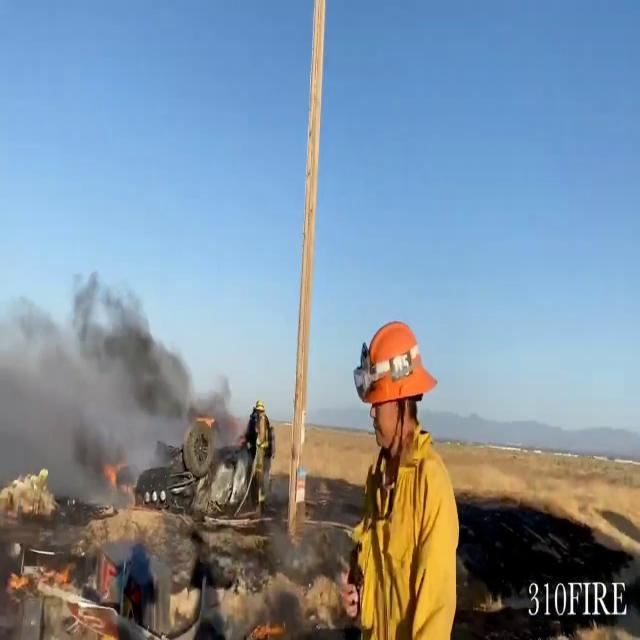Smoke: (0, 257, 223, 498)
